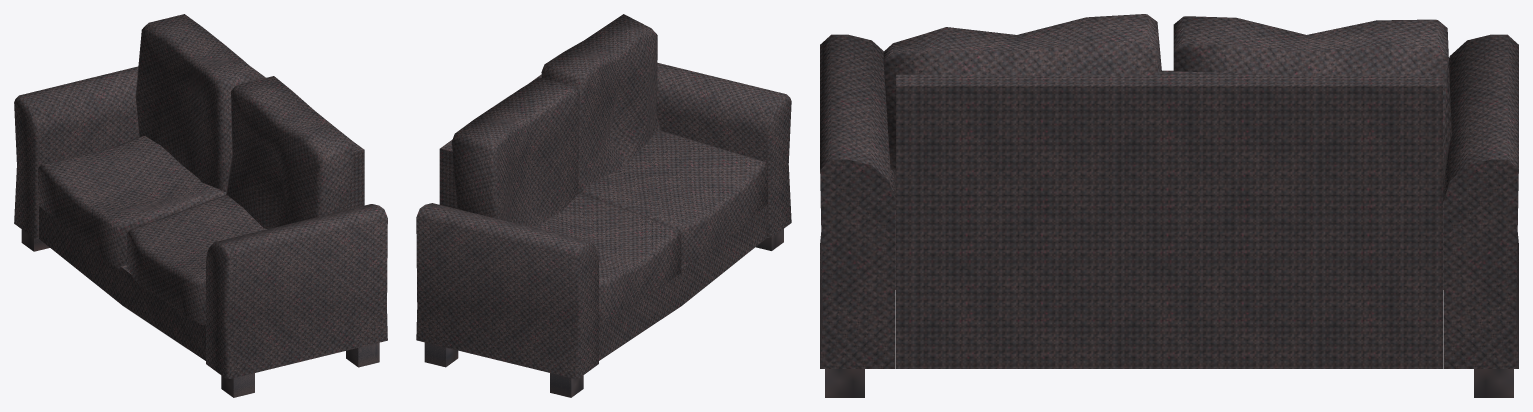
The model's file is Couch.fbx.
The picture shows the model from 3 angles, left to right: view 1: azimuth 30°, elevation 25°; view 2: azimuth 150°, elevation 25°; view 3: azimuth 270°, elevation 25°; orthographic projection. The views are drawn at different scales.
Parts seen in each view (by area): view 1: Couch; view 2: Couch; view 3: Couch.
Boxes of the visible parts, <box> form: Couch: <box>14,14,387,397</box>; Couch: <box>416,14,791,397</box>; Couch: <box>820,14,1518,397</box>.
Bounding box in the file's own units: 369 × 473 × 855.
